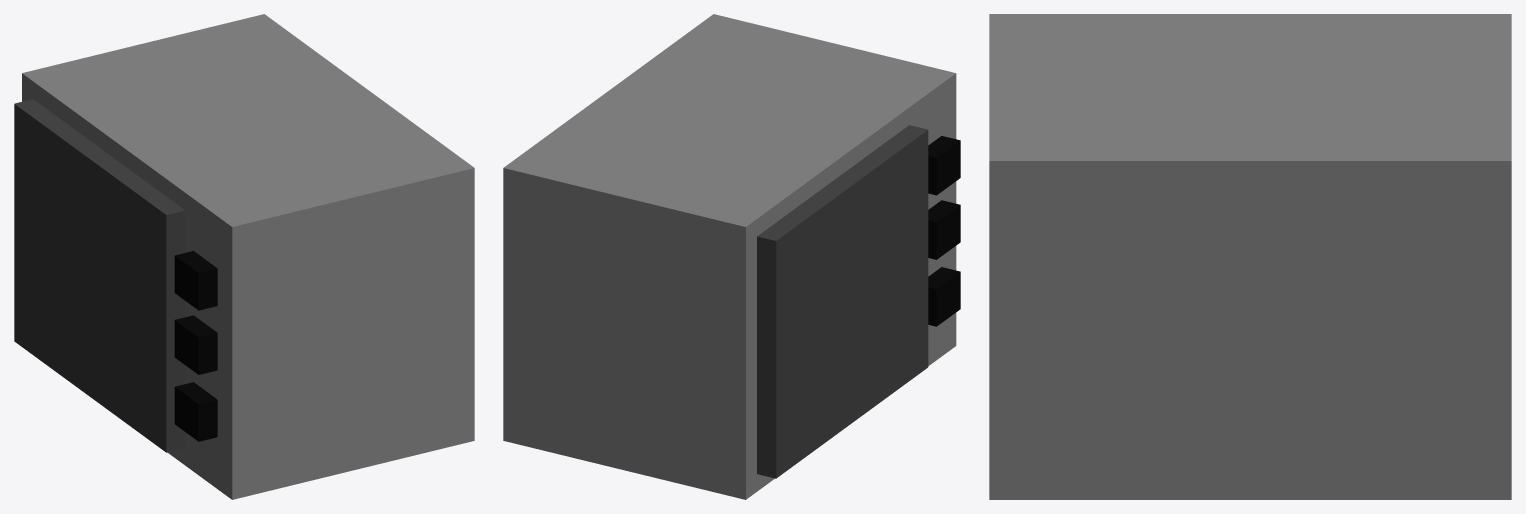
3 renders of one model, left to right at view 1: azimuth 30°, elevation 25°; view 2: azimuth 150°, elevation 25°; view 3: azimuth 270°, elevation 25°, orthographic. The views are drawn at different scales.
Visible parts, largest first — view 1: tv; view 2: tv; view 3: tv.
Boxes of the visible parts, x1,y1,x2,y2 form: tv: (14,14,474,499); tv: (503,14,960,499); tv: (989,14,1511,499).
Size of the model in its own units: 108 by 108 by 150.
